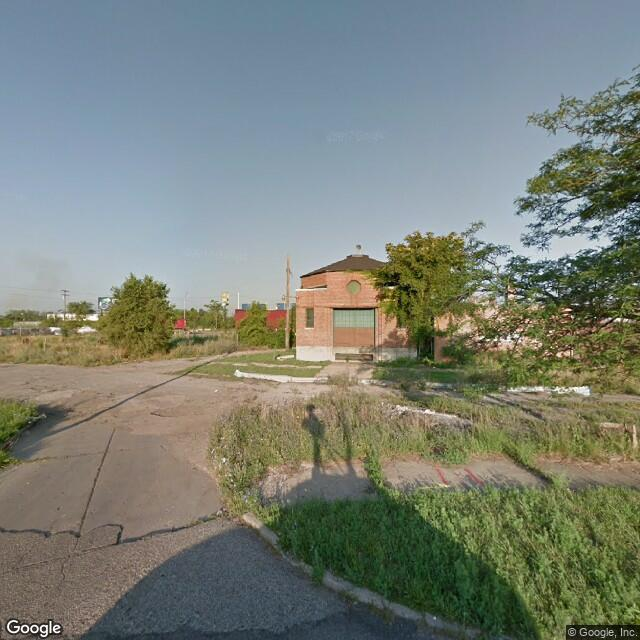litter: (31, 412, 45, 422), (220, 455, 229, 465), (431, 613, 438, 622), (213, 386, 219, 395)
